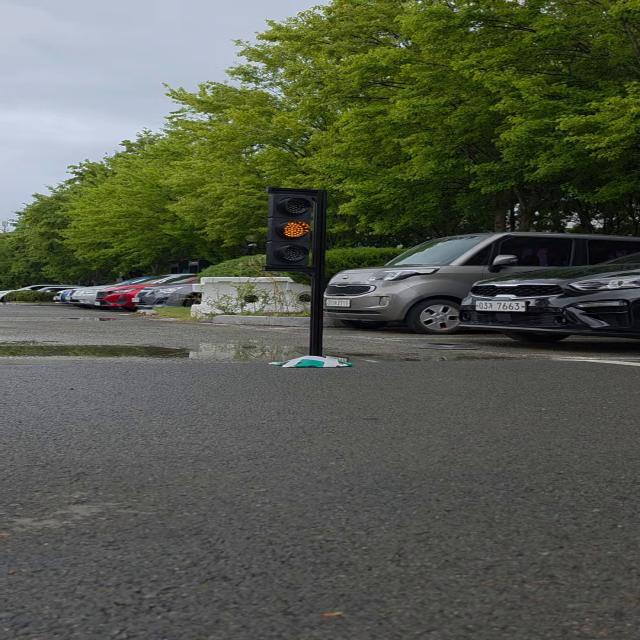yellow: (258, 184, 335, 278)
